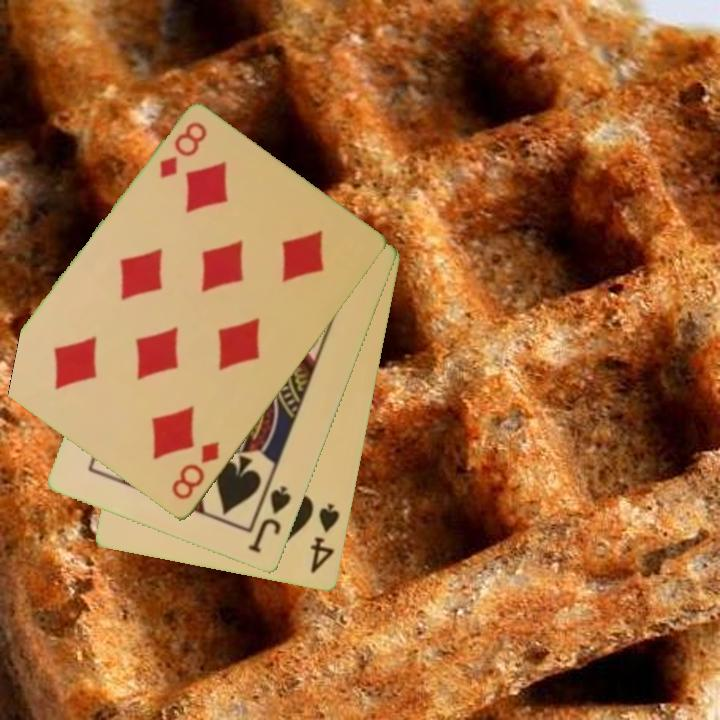4s: (307, 500, 343, 577)
8d: (168, 438, 223, 504), (156, 118, 210, 182)
Js: (245, 482, 295, 556)
